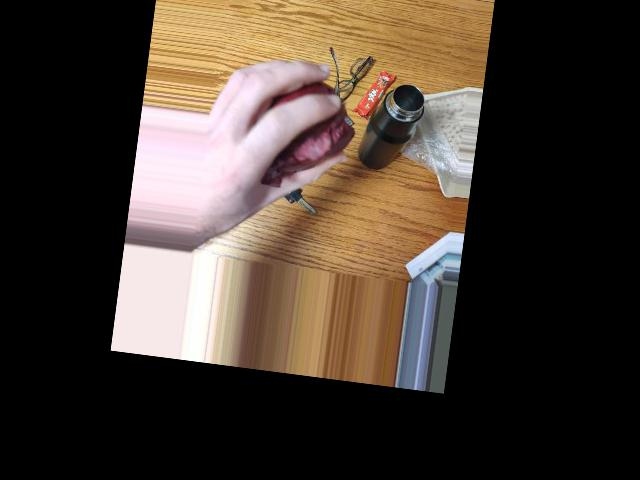onion: (264, 72, 353, 168)
